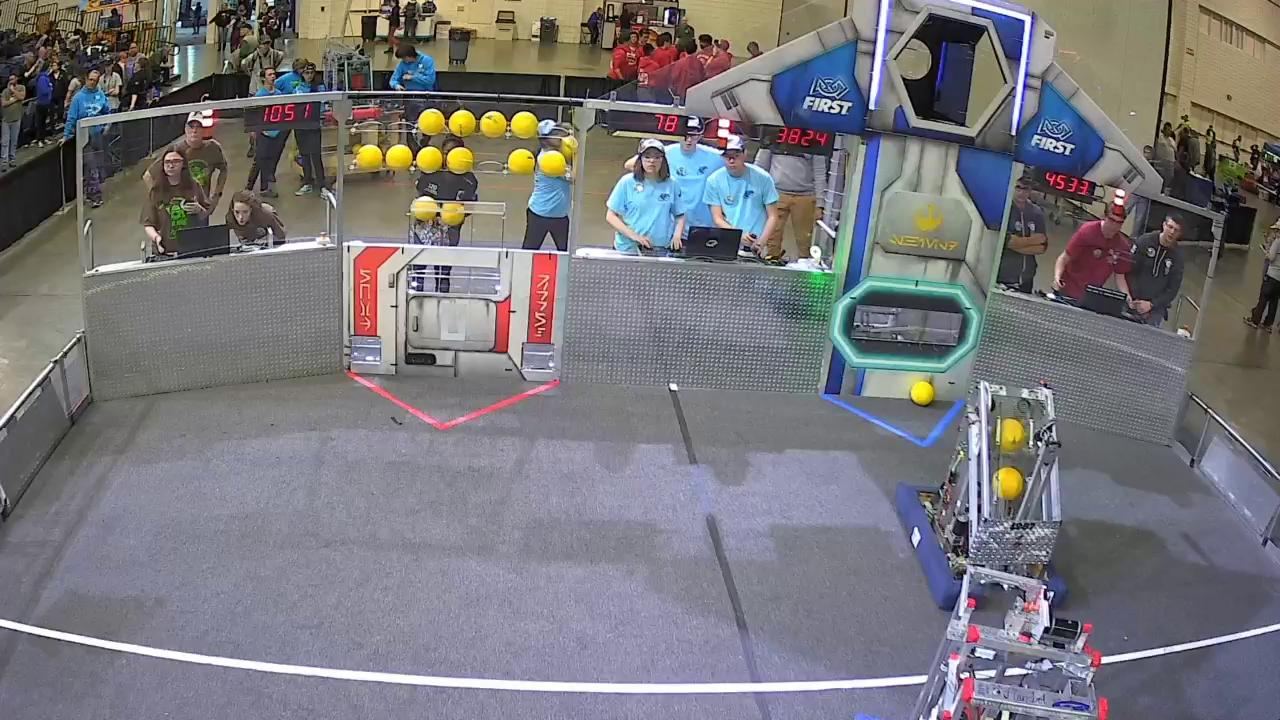robot: (894, 380, 1065, 611), (853, 568, 1112, 719)
